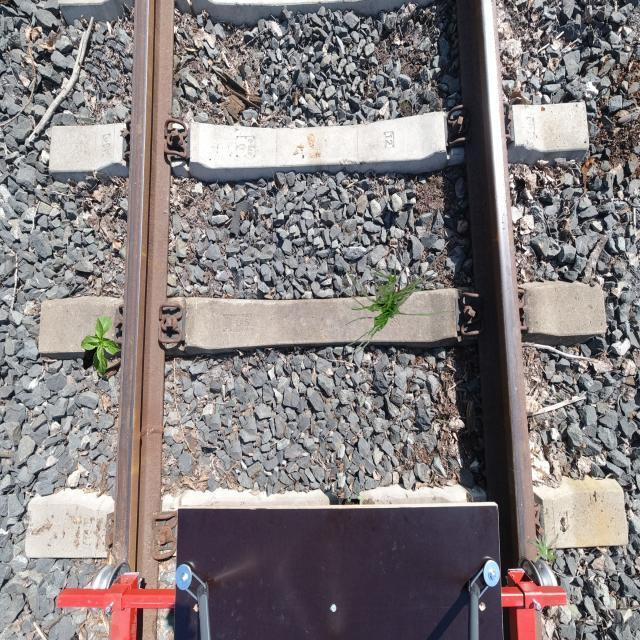Plant: (338, 240, 456, 362), (81, 316, 123, 376), (526, 529, 558, 564)
